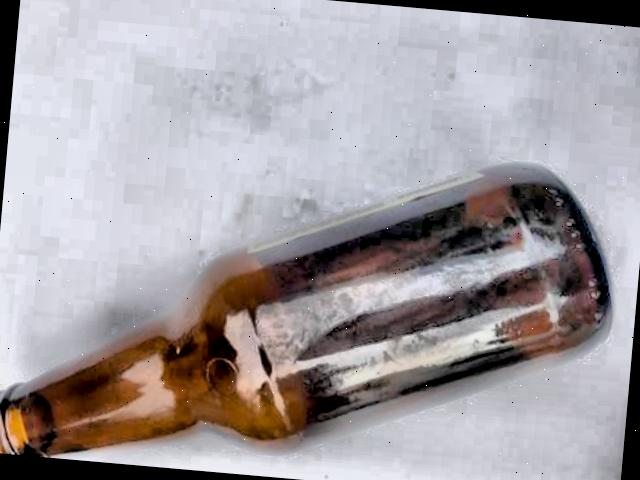Bottles: (0, 106, 640, 480)
